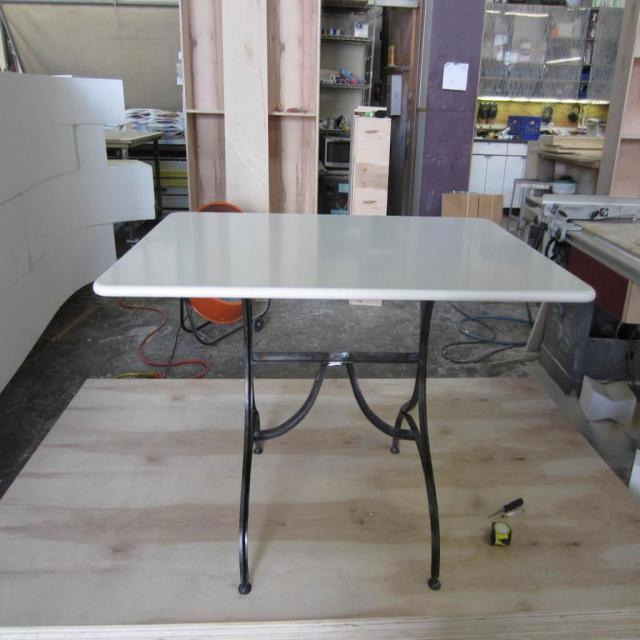Table: (91, 203, 596, 598)
